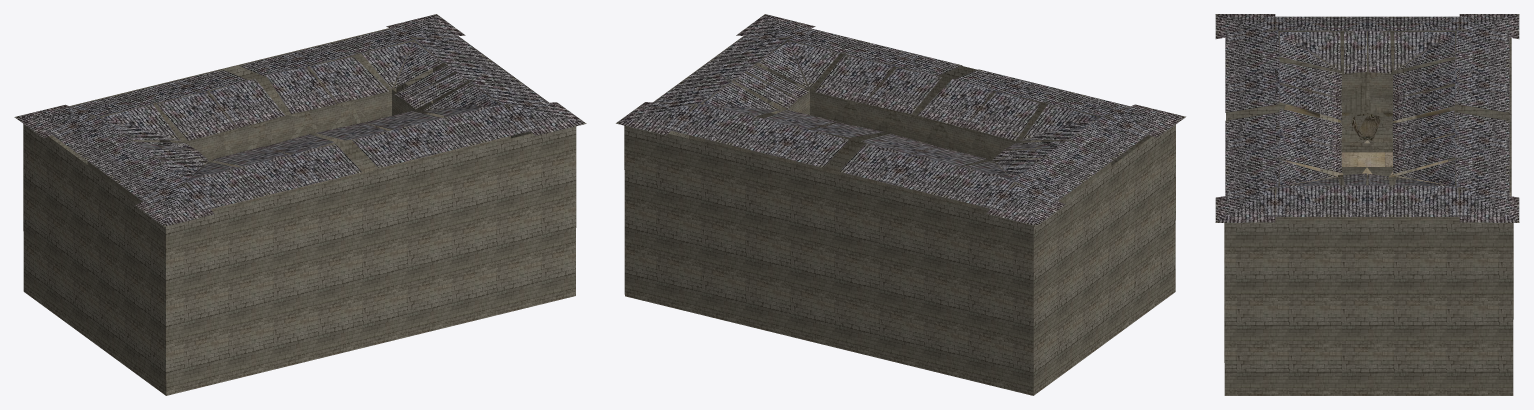
File: sponza_64Tx_low_poly.glb
The picture shows the model from 3 angles, left to right: view 1: azimuth 30°, elevation 25°; view 2: azimuth 150°, elevation 25°; view 3: azimuth 270°, elevation 25°; orthographic projection.
Visible parts, largest first — view 1: Mesh_0; view 2: Mesh_0; view 3: Mesh_0.
Part boxes in pixels (x1,y1,x2,y2): Mesh_0: (14, 14, 586, 395); Mesh_0: (616, 14, 1185, 395); Mesh_0: (1215, 14, 1519, 395).
Bounding box in the file's own units: 29.77 × 12.54 × 18.31.
Materials: 17 (17 with a texture image).
